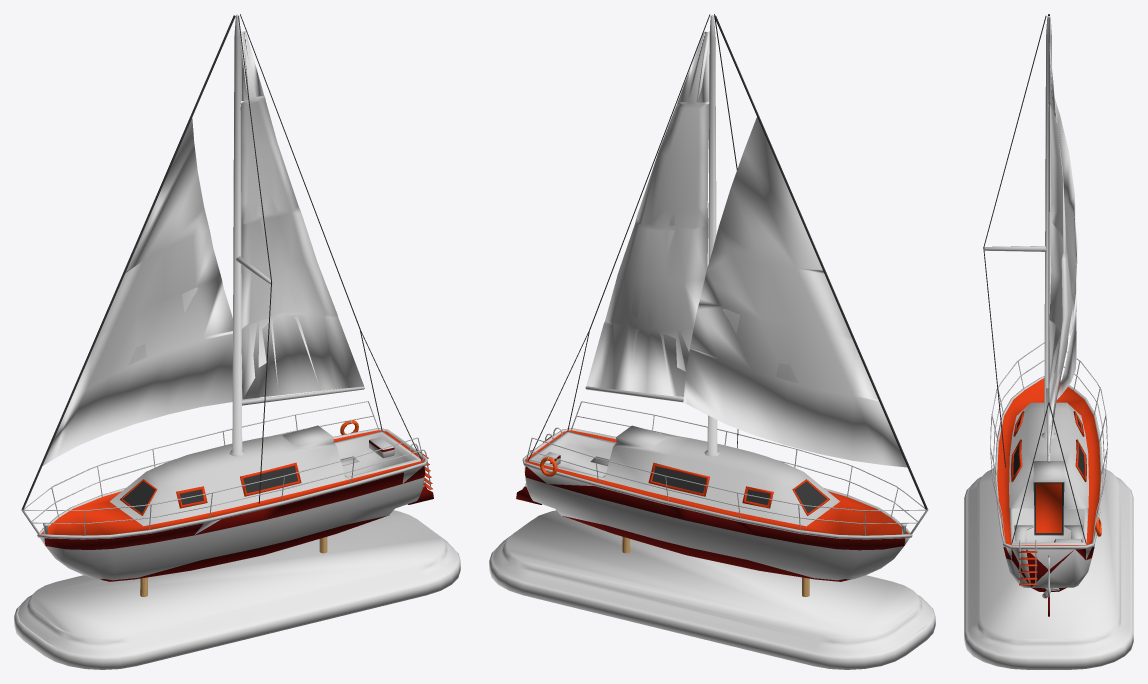
The model's file is WoodToyShip.fbx.
The picture shows the model from 3 angles, left to right: view 1: azimuth 30°, elevation 25°; view 2: azimuth 150°, elevation 25°; view 3: azimuth 270°, elevation 25°; orthographic projection. The views are drawn at different scales.
Parts seen in each view (by area): view 1: WoodToyShip; view 2: WoodToyShip; view 3: WoodToyShip.
Part boxes in pixels (x1=…): WoodToyShip: x1=14, y1=14, x2=460, y2=669; WoodToyShip: x1=489, y1=14, x2=935, y2=669; WoodToyShip: x1=964, y1=14, x2=1133, y2=669.
Bounding box in the file's own units: 14.41 × 19.16 × 5.25.
